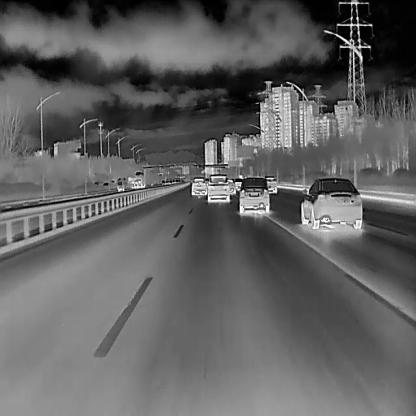car: (300, 177, 362, 229), (239, 176, 269, 213), (206, 173, 230, 202), (191, 176, 206, 195), (264, 176, 277, 193), (226, 178, 236, 194), (233, 178, 242, 189), (102, 181, 110, 186), (171, 178, 175, 184), (161, 180, 165, 185), (169, 179, 172, 184), (165, 180, 168, 184), (175, 177, 177, 183)
truck: (132, 171, 146, 188)
